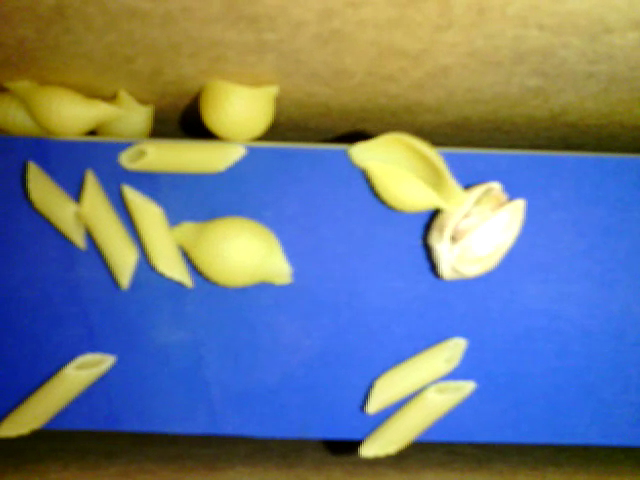penne: (1, 350, 122, 439), (359, 375, 479, 458), (358, 336, 467, 415), (77, 165, 140, 290), (120, 183, 192, 286), (25, 157, 86, 249), (114, 137, 245, 176)
shell: (345, 129, 469, 214), (171, 214, 293, 287), (1, 75, 135, 138), (200, 80, 281, 143), (89, 85, 160, 136), (1, 88, 57, 134)
